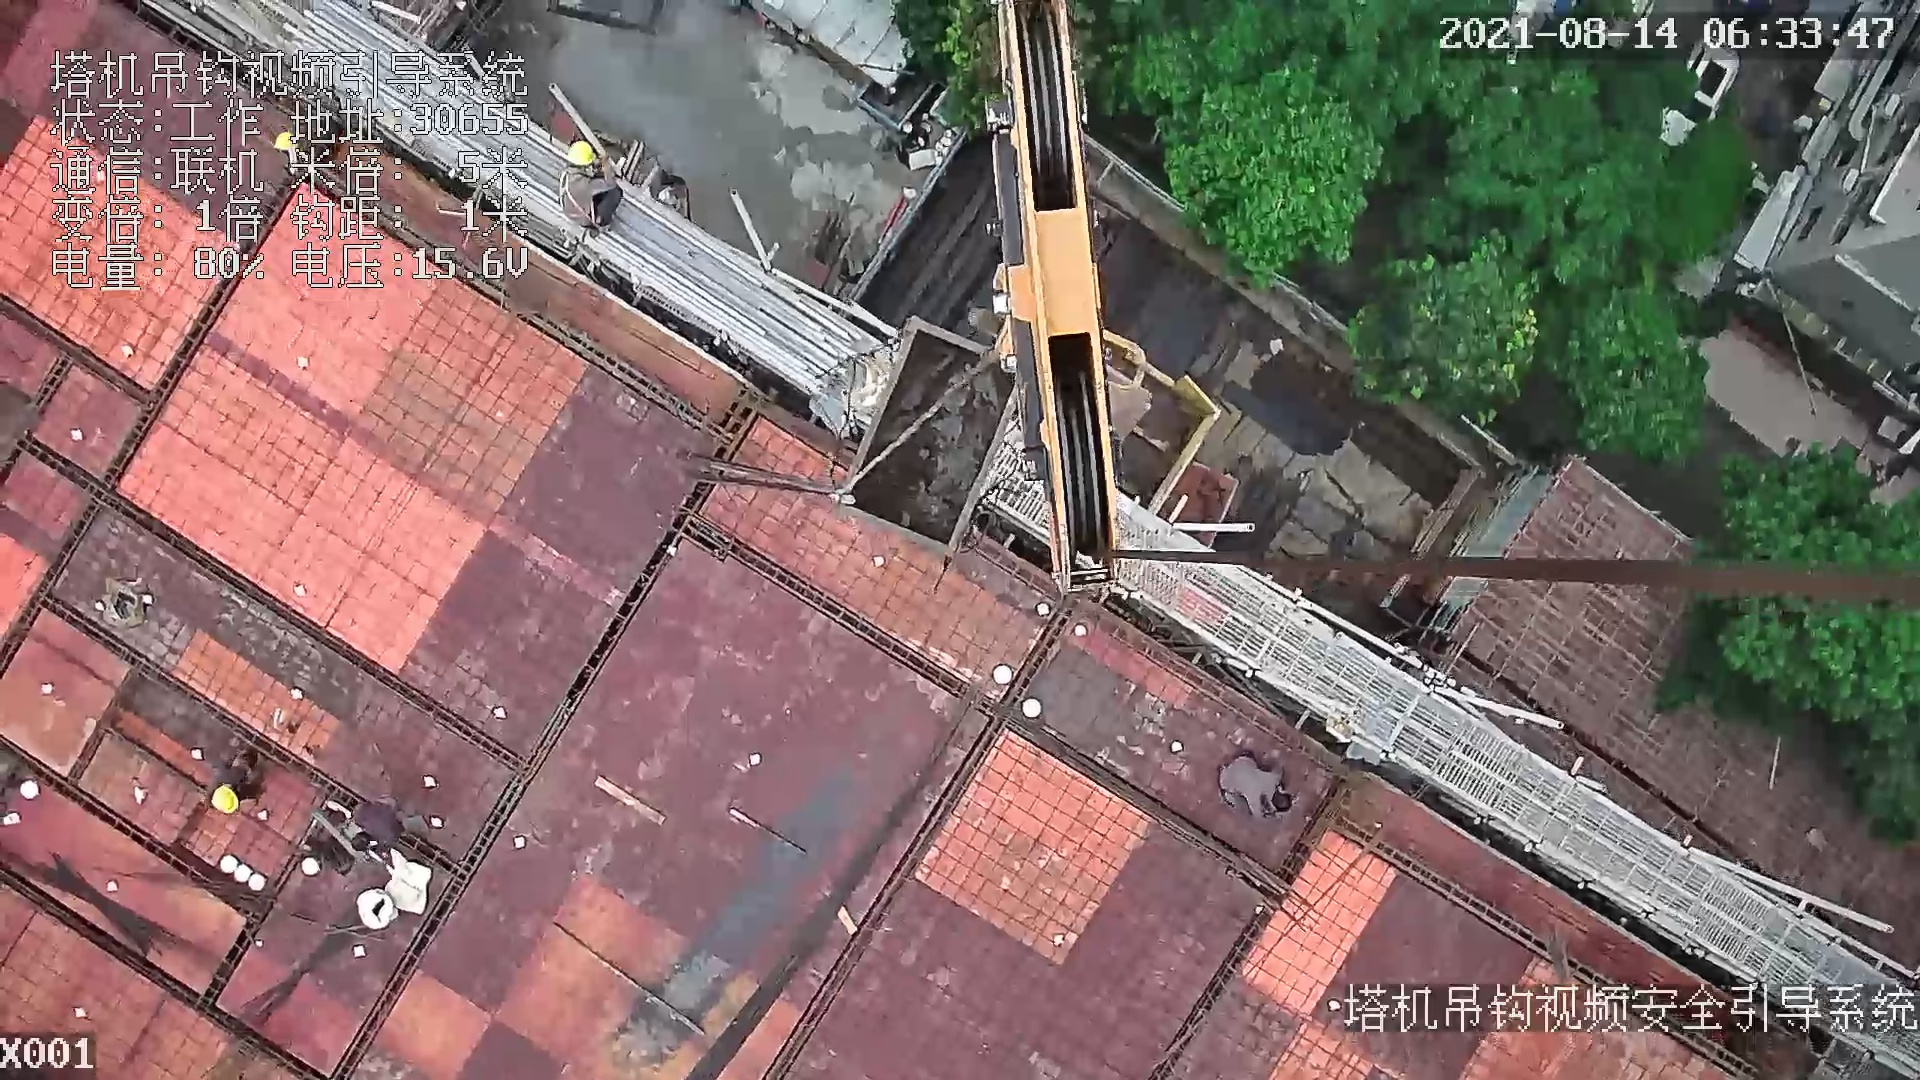helmet: (209, 783, 241, 815), (562, 140, 599, 167)
person: (551, 123, 635, 235), (1222, 741, 1300, 828), (200, 750, 268, 817), (349, 797, 410, 858)
